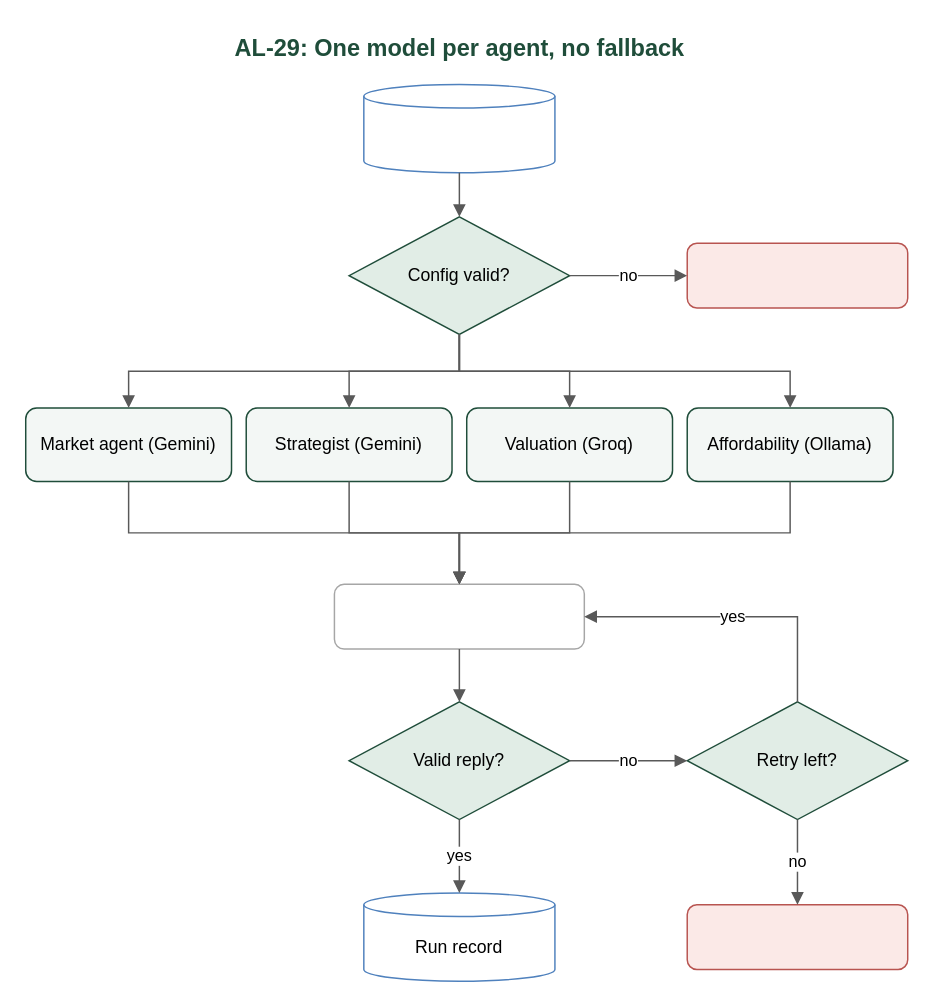
This 933x1007 diagram has some shape labels left out. The centre of each missing label's shape, as x and y in pixels:
"agents.json" belongs at pixel 458 128.
"Call that provider only" belongs at pixel 458 616.
"Nothing runs" belongs at pixel 797 275.
"Step fails" belongs at pixel 797 936.
